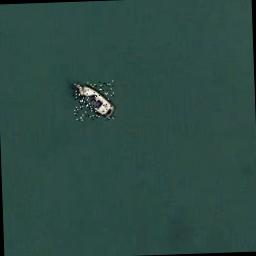boat: (72, 80, 114, 120)
